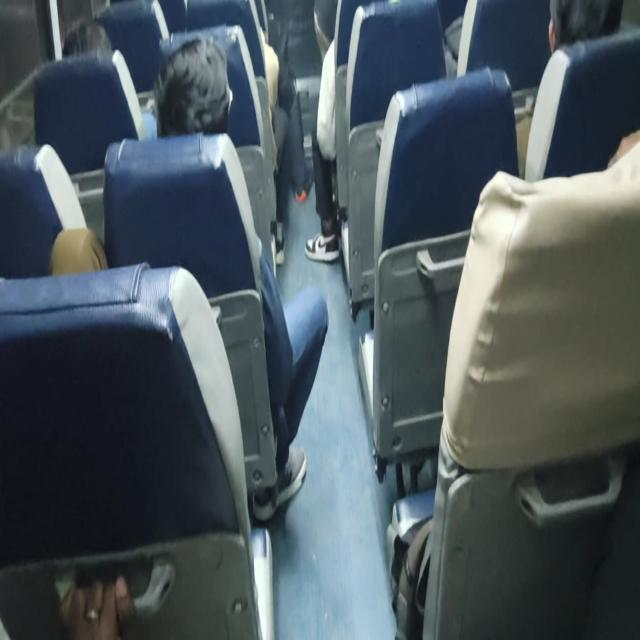person: (152, 34, 329, 520), (304, 1, 342, 263), (153, 34, 233, 137)
